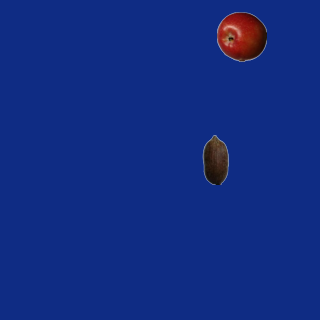Apple Braeburn: (216, 11, 266, 61)
Nut Pecan: (190, 134, 240, 184)
